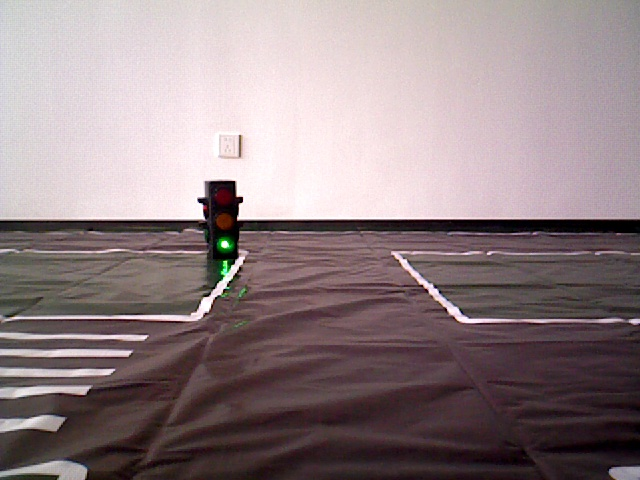green: (201, 184, 239, 253)
